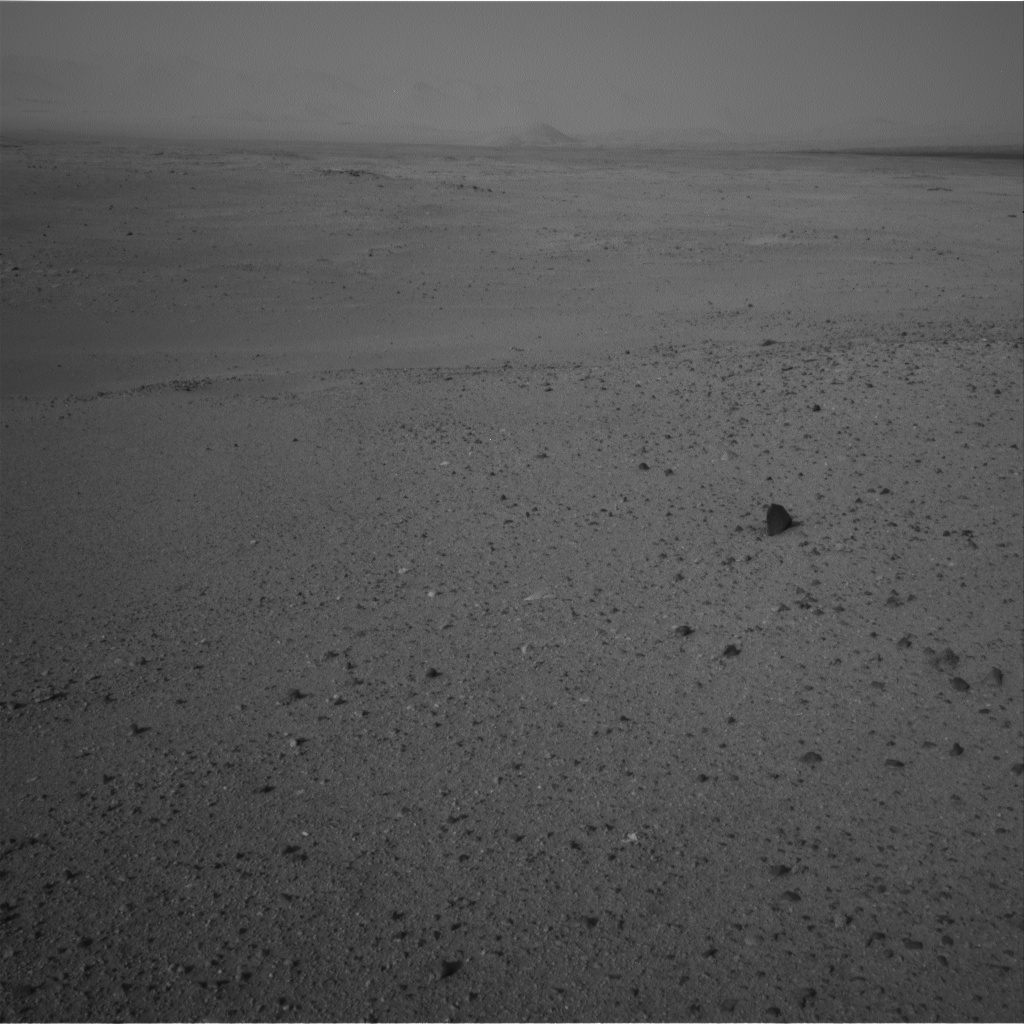soil: (6, 320, 1021, 1021)
